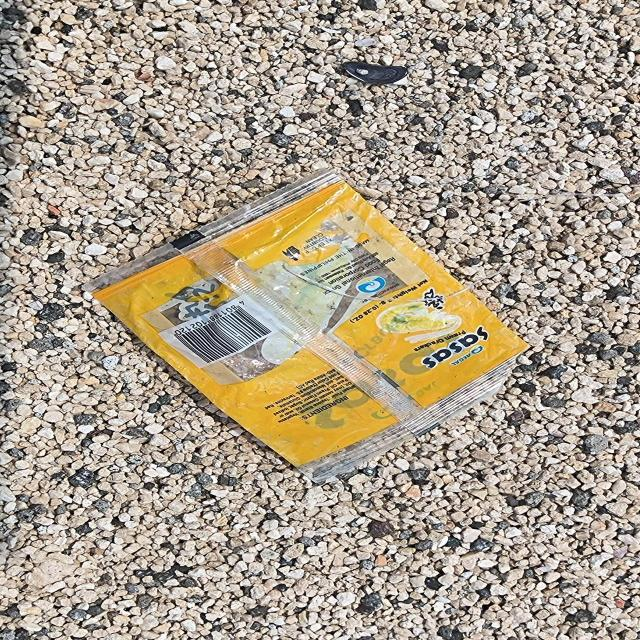plastic_waste: (79, 166, 537, 486)
